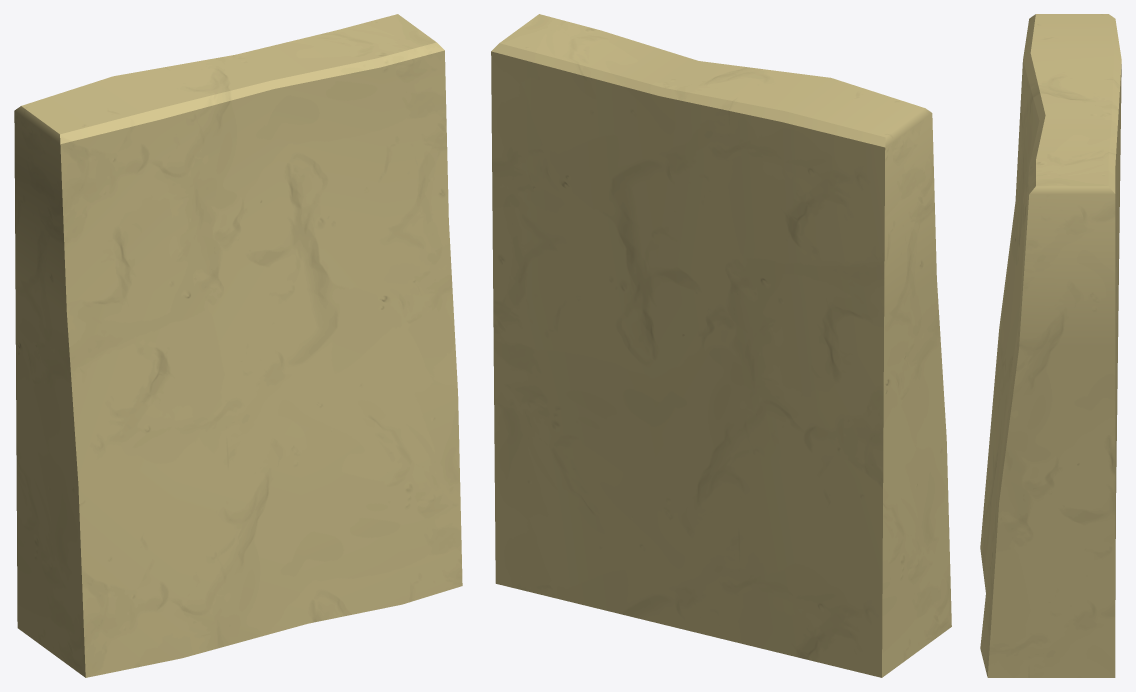
File: V_Wall_basic.FBX
3 views of the same model, side by side, from view 1: azimuth 30°, elevation 25°; view 2: azimuth 150°, elevation 25°; view 3: azimuth 270°, elevation 25° (orthographic). The views are drawn at different scales.
Parts seen in each view (by area): view 1: Box006; view 2: Box006; view 3: Box006.
Part boxes in pixels (<box>): Box006: <box>14,14,462,677</box>; Box006: <box>491,14,951,677</box>; Box006: <box>980,14,1121,677</box>.
Size of the model in its own units: 241 by 318 by 82.09.
